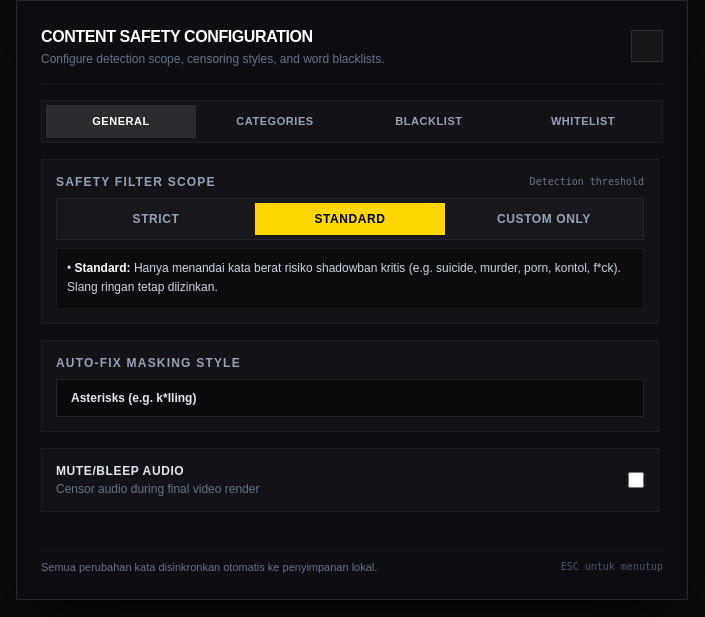
it: BlacklistSettings Component - Modal Navigation and Multi-Word Input › renders top-level tabs and switches content correctly
Click the button "Categories": click(275, 121) [200,105,350,138]
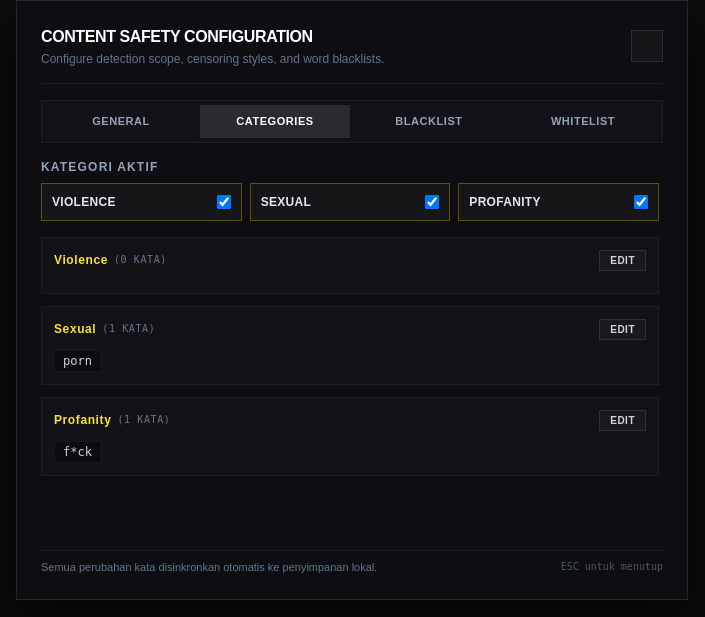
expect the text "Kategori Aktif" is shown: met, box [41,160,158,174]
expect the text "violence" is shown: met, box [52,194,116,210]
Click the button "Blacklist": click(429, 121) [354,105,504,138]
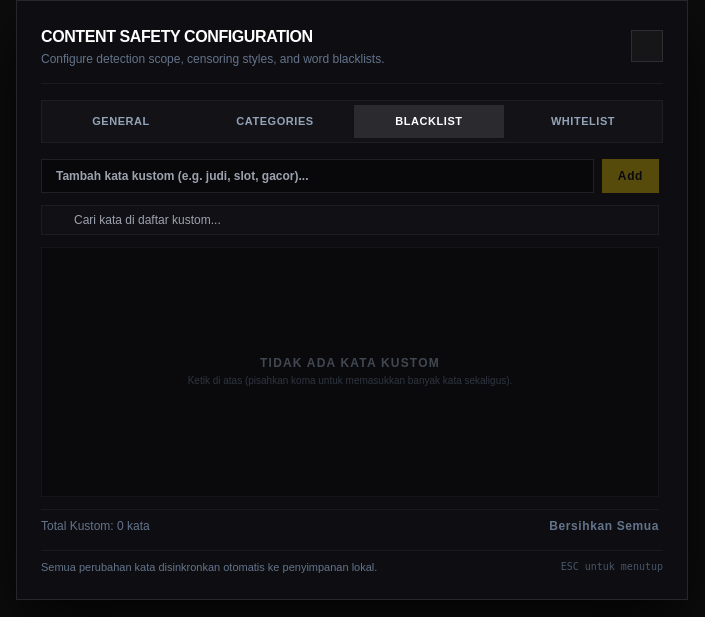
expect the field with placeholder "Tambah kata kustom (e.g. judi, slot, gacor)..." is shown: met, box [41,158,594,192]
expect the text "Total Kustom" is shown: met, box [41,518,150,532]
